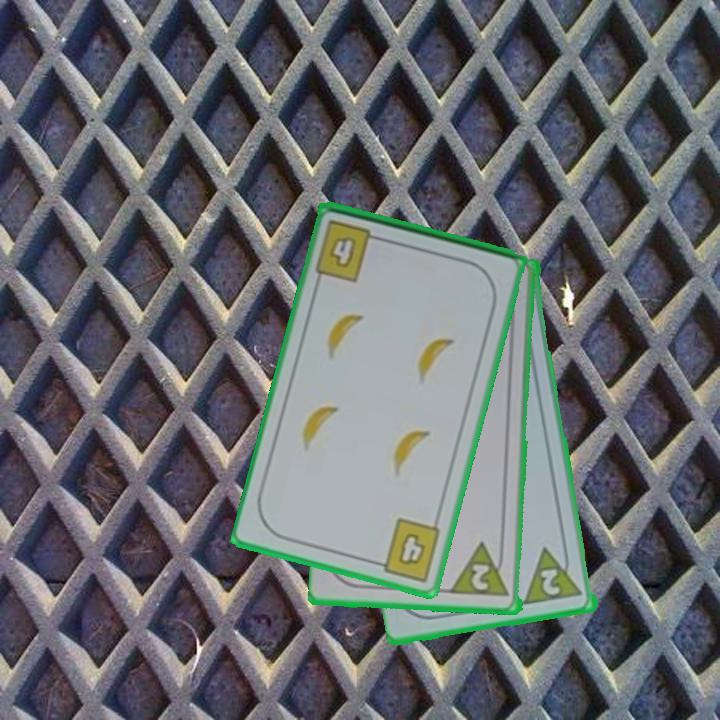2p: (522, 541, 586, 608), (468, 560, 495, 594)
4b: (311, 216, 387, 285), (370, 515, 444, 585)
